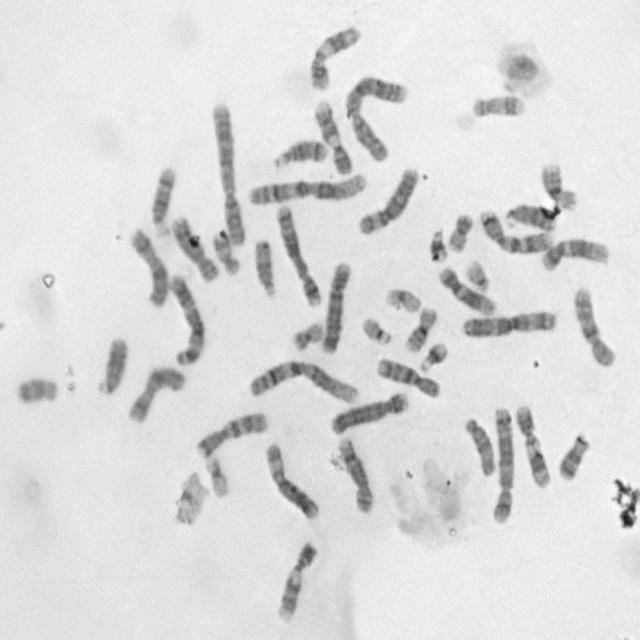A1: (248, 357, 358, 409), (246, 172, 368, 207)
A2: (344, 75, 409, 163), (209, 103, 247, 248)
A3: (168, 274, 206, 366), (460, 308, 558, 341)
B4: (328, 390, 408, 437), (320, 259, 353, 355)
B5: (274, 204, 324, 308), (489, 405, 516, 523)
C10: (572, 286, 621, 370), (375, 355, 442, 400)
C11: (308, 21, 362, 90), (514, 402, 553, 490)
C12: (438, 264, 496, 318), (541, 239, 610, 272)
C6: (263, 442, 321, 522), (356, 165, 422, 235)
C7: (192, 409, 271, 461), (480, 208, 556, 256)
C8: (170, 214, 220, 284), (336, 438, 374, 515)
C9: (274, 540, 320, 624), (313, 98, 354, 178)
D13: (94, 336, 131, 396), (504, 202, 557, 231)
D14: (150, 167, 176, 236), (272, 140, 327, 170)
D15: (464, 417, 497, 477), (254, 238, 277, 300)
E16: (541, 161, 580, 213), (403, 304, 438, 354)
E17: (471, 93, 529, 122), (212, 228, 242, 278)
E18: (556, 433, 590, 483), (16, 374, 59, 409)
F19: (204, 453, 230, 503), (384, 286, 423, 316)
F20: (448, 212, 475, 253), (290, 321, 322, 351)
G21: (419, 341, 449, 375), (427, 225, 449, 267)
G22: (361, 316, 393, 346), (464, 258, 492, 292)
X: (126, 366, 186, 427), (129, 227, 169, 308)
